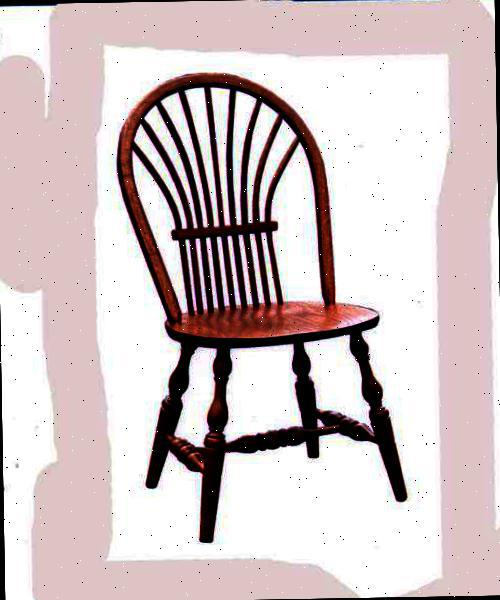Silla: (110, 65, 411, 538)
